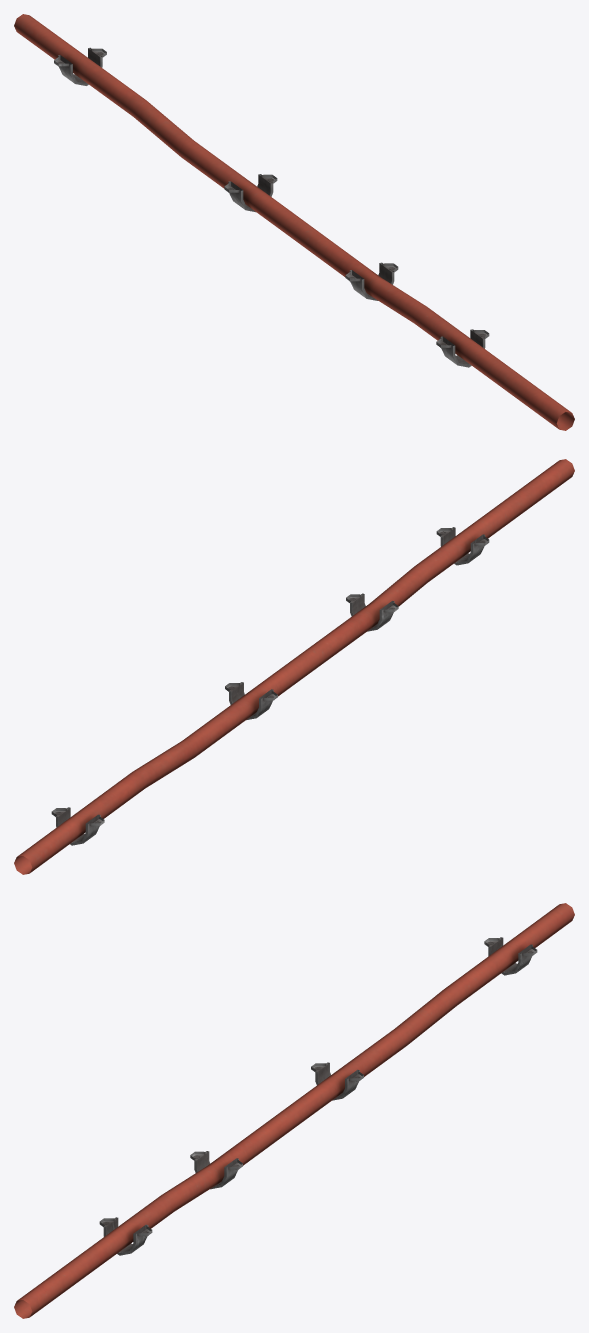
Rendered from Cables01_06.glb.
3 views of the same model, one above another, from view 1: azimuth 30°, elevation 25°; view 2: azimuth 150°, elevation 25°; view 3: azimuth 330°, elevation 25° (orthographic).
Parts seen in each view (by area): view 1: Circle_027; view 2: Circle_027; view 3: Circle_027.
Boxes of the visible parts, x1,y1,x2,y2 form: Circle_027: [14, 14, 574, 430]; Circle_027: [14, 459, 574, 874]; Circle_027: [14, 903, 574, 1318].
Bounding box in the file's own units: 0.069 × 0.0353 × 1.3.
1 material, 1 textured.
